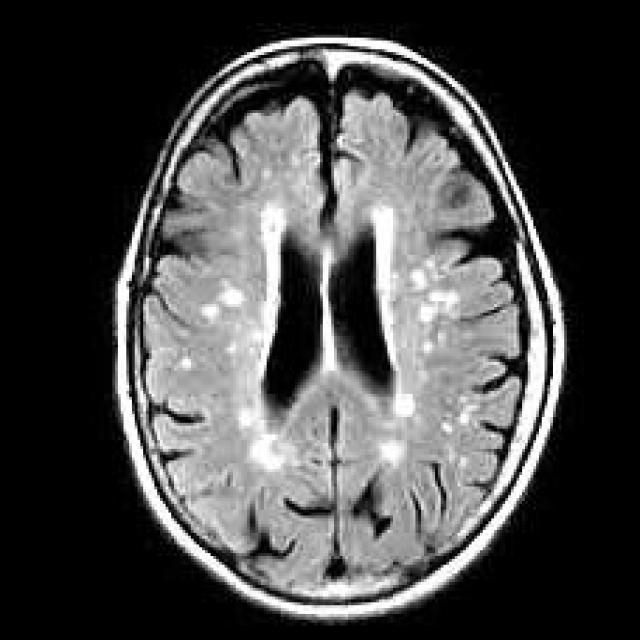notumor: (115, 38, 564, 620)
